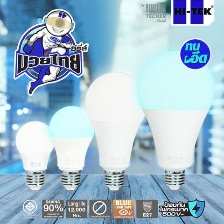light_bulb: (134, 47, 218, 193), (81, 68, 149, 192), (45, 102, 99, 192), (13, 118, 59, 192)
